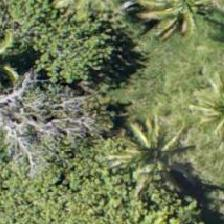coconut_tree: (108, 104, 198, 194), (172, 54, 223, 144)
